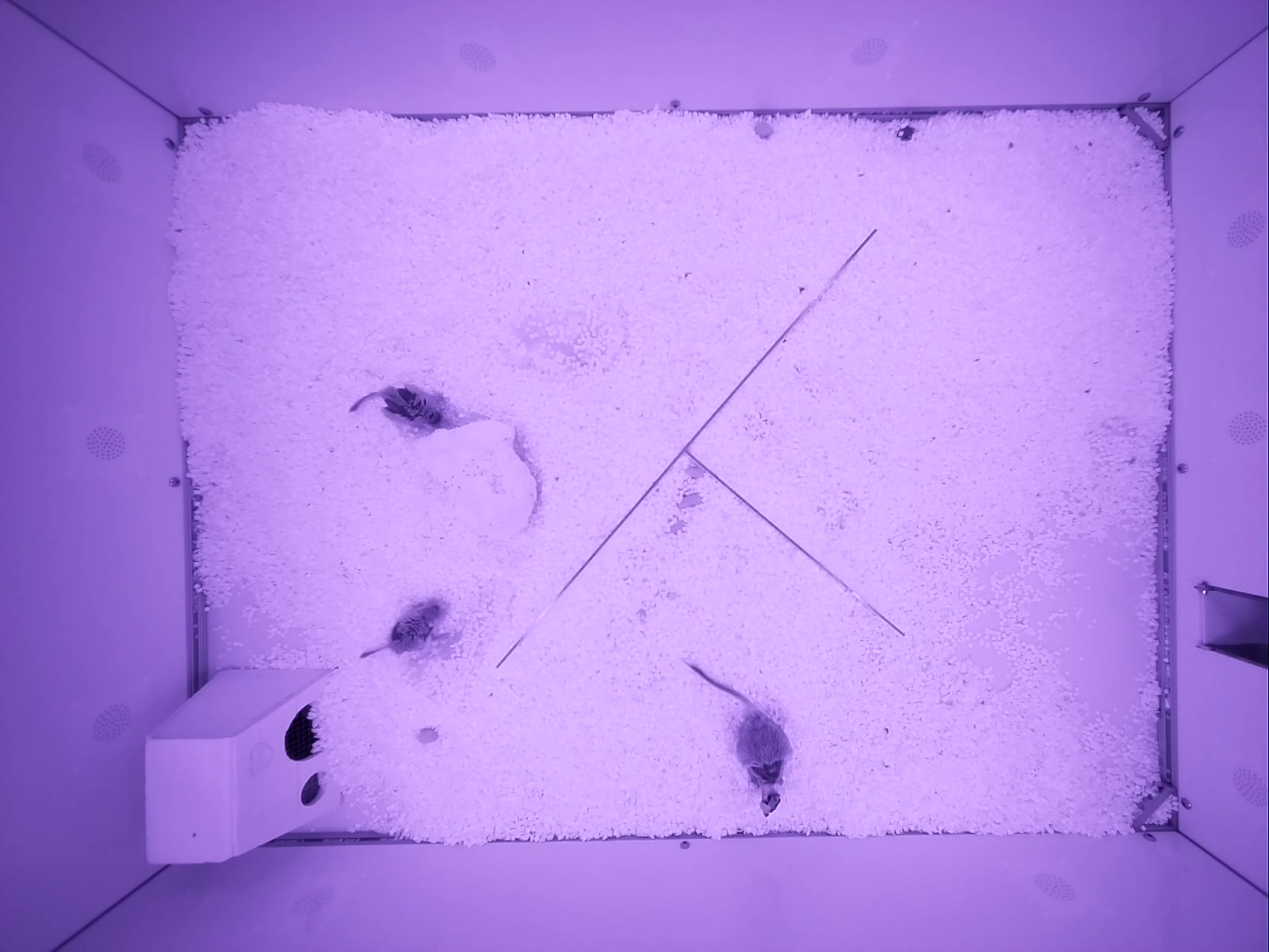adult_back: (687, 662, 791, 816), (361, 599, 443, 658), (350, 386, 444, 427)
